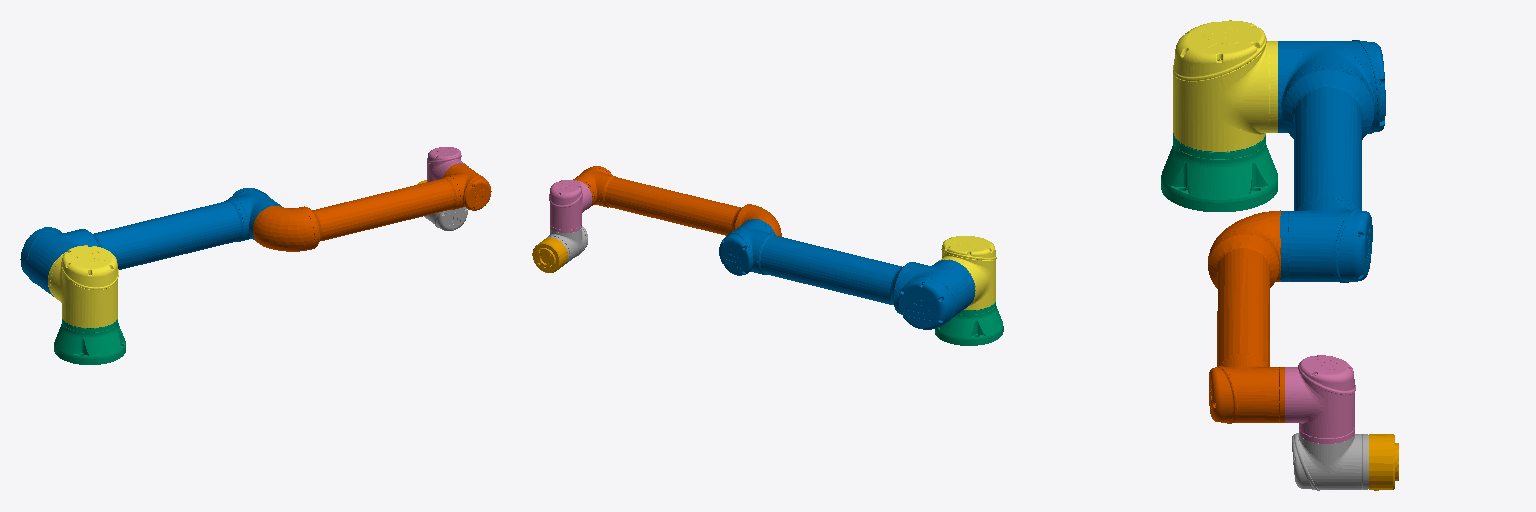
robot.urdf — ur:
<?xml version="1.0" ?>
<!-- =================================================================================== -->
<!-- |    This document was autogenerated by xacro from [local-path]/catkin_ws/src/Universal_Robots_ROS2_Description/urdf/ur.urdf.xacro | -->
<!-- |    EDITING THIS FILE BY HAND IS NOT RECOMMENDED                                 | -->
<!-- =================================================================================== -->
<robot name="ur">
  <!--
    Base UR robot series xacro macro.

    NOTE this is NOT a URDF. It cannot directly be loaded by consumers
    expecting a flattened '.urdf' file. See the top-level '.xacro' for that
    (but note that .xacro must still be processed by the xacro command).

    This file models the base kinematic chain of a UR robot, which then gets
    parameterised by various configuration files to convert it into a UR3(e),
    UR5(e), UR10(e) or UR16e.

    NOTE the default kinematic parameters (i.e., link lengths, frame locations,
    offsets, etc) do not correspond to any particular robot. They are defaults
    only. There WILL be non-zero offsets between the Forward Kinematics results
    in TF (i.e., robot_state_publisher) and the values reported by the Teach
    Pendant.

    For accurate (and robot-specific) transforms, the 'kinematics_parameters_file'
    parameter MUST point to a .yaml file containing the appropriate values for
    the targeted robot.

    If using the UniversalRobots/Universal_Robots_ROS_Driver, follow the steps
    described in the readme of that repository to extract the kinematic
    calibration from the controller and generate the required .yaml file.

    Main author of the migration to yaml configs [author].

    Contributors to previous versions (in no particular order)

     - [author]
     - [author]
     - [author]
     - [author]
     - [author]
     - [author]
     - [author]
     - [author]
     - [author]
     - [author]
     - [author]
     - [author]
     - [author]
     - [author]
     - [author]
     - [author]
     - [author]
     - [author]
     - [author]
  -->
  <!-- create link fixed to the "world" -->
  <link name="world"/>
  <!-- links -  main serial chain -->
  <!-- base_link serves as the root of the robot's kinematic tree. It follows REP-103
        conventions (i.e., X+ forward, Y+ left, Z+ up).
        Since some kinematic solvers forbid having inertia values attached to a root link, we've
        added the base_link_inertia link that carries the visual, collision and inertia
        information.
    -->
  <link name="base_link"/>
  <link name="base_link_inertia">
    <visual>
      <origin rpy="0.0 0.0 3.141592653589793" xyz="0.0 0.0 0.0"/>
      <geometry>
        <mesh filename="meshes/ur10e/visual/base.obj"/>
      </geometry>
    </visual>
    <collision>
      <origin rpy="0.0 0.0 3.141592653589793" xyz="0.0 0.0 0.0"/>
      <geometry>
        <mesh filename="meshes/ur10e/collision/base.stl"/>
      </geometry>
    </collision>
    <inertial>
      <mass value="4.0"/>
      <origin rpy="0 0 0" xyz="0 0 0"/>
      <inertia ixx="0.0061063308908" ixy="0.0" ixz="0.0" iyy="0.0061063308908" iyz="0.0" izz="0.01125"/>
    </inertial>
  </link>
  <link name="shoulder_link">
    <visual>
      <origin rpy="0.0 0.0 3.141592653589793" xyz="0.0 0.0 0.0"/>
      <geometry>
        <mesh filename="meshes/ur10e/visual/shoulder.obj"/>
      </geometry>
    </visual>
    <collision>
      <origin rpy="0.0 0.0 3.141592653589793" xyz="0.0 0.0 0.0"/>
      <geometry>
        <mesh filename="meshes/ur10e/collision/shoulder.stl"/>
      </geometry>
    </collision>
    <inertial>
      <mass value="7.369"/>
      <origin rpy="1.570796326794897 0 0" xyz="0.021 -0.027 0.0"/>
      <inertia ixx="0.03408" ixy="2e-05" ixz="-0.00425" iyy="0.03529" iyz="8e-05" izz="0.02156"/>
    </inertial>
  </link>
  <link name="upper_arm_link">
    <visual>
      <origin rpy="1.5707963267948966 0.0 -1.5707963267948966" xyz="0.0 0.0 0.1762"/>
      <geometry>
        <mesh filename="meshes/ur10e/visual/upperarm.obj"/>
      </geometry>
    </visual>
    <collision>
      <origin rpy="1.5707963267948966 0.0 -1.5707963267948966" xyz="0.0 0.0 0.1762"/>
      <geometry>
        <mesh filename="meshes/ur10e/collision/upperarm.stl"/>
      </geometry>
    </collision>
    <inertial>
      <mass value="13.051"/>
      <origin rpy="0 0 0" xyz="-0.2327 0.0 0.158"/>
      <inertia ixx="0.02814" ixy="5e-05" ixz="-0.01561" iyy="0.77068" iyz="2e-05" izz="0.76943"/>
    </inertial>
  </link>
  <link name="forearm_link">
    <visual>
      <origin rpy="1.5707963267948966 0.0 -1.5707963267948966" xyz="0.0 0.0 0.0393"/>
      <geometry>
        <mesh filename="meshes/ur10e/visual/forearm.obj"/>
      </geometry>
    </visual>
    <collision>
      <origin rpy="1.5707963267948966 0.0 -1.5707963267948966" xyz="0.0 0.0 0.0393"/>
      <geometry>
        <mesh filename="meshes/ur10e/collision/forearm.stl"/>
      </geometry>
    </collision>
    <inertial>
      <mass value="3.989"/>
      <origin rpy="0 0 0" xyz="-0.33155 0.0 0.068"/>
      <inertia ixx="0.01014" ixy="8e-05" ixz="0.00916" iyy="0.30928" iyz="0.0" izz="0.30646"/>
    </inertial>
  </link>
  <link name="wrist_1_link">
    <visual>
      <origin rpy="1.5707963267948966 0.0 0.0" xyz="0.0 0.0 -0.135"/>
      <geometry>
        <mesh filename="meshes/ur10e/visual/wrist1.obj"/>
      </geometry>
    </visual>
    <collision>
      <origin rpy="1.5707963267948966 0.0 0.0" xyz="0.0 0.0 -0.135"/>
      <geometry>
        <mesh filename="meshes/ur10e/collision/wrist1.stl"/>
      </geometry>
    </collision>
    <inertial>
      <mass value="2.1"/>
      <origin rpy="1.570796326794897 0 0" xyz="0.0 -0.018 0.007"/>
      <inertia ixx="0.00296" ixy="-1e-05" ixz="0.0" iyy="0.00222" iyz="-0.00024" izz="0.00258"/>
    </inertial>
  </link>
  <link name="wrist_2_link">
    <visual>
      <origin rpy="0.0 0.0 0.0" xyz="0.0 0.0 -0.12"/>
      <geometry>
        <mesh filename="meshes/ur10e/visual/wrist2.obj"/>
      </geometry>
    </visual>
    <collision>
      <origin rpy="0.0 0.0 0.0" xyz="0.0 0.0 -0.12"/>
      <geometry>
        <mesh filename="meshes/ur10e/collision/wrist2.stl"/>
      </geometry>
    </collision>
    <inertial>
      <mass value="1.98"/>
      <origin rpy="-1.570796326794897 0 0" xyz="0.0 0.018 -0.007"/>
      <inertia ixx="0.00296" ixy="-1e-05" ixz="0.0" iyy="0.00222" iyz="-0.00024" izz="0.00258"/>
    </inertial>
  </link>
  <link name="wrist_3_link">
    <visual>
      <origin rpy="1.5707963267948966 0.0 0.0" xyz="0.0 0.0 -0.1168"/>
      <geometry>
        <mesh filename="meshes/ur10e/visual/wrist3.obj"/>
      </geometry>
    </visual>
    <collision>
      <origin rpy="1.5707963267948966 0.0 0.0" xyz="0.0 0.0 -0.1168"/>
      <geometry>
        <mesh filename="meshes/ur10e/collision/wrist3.stl"/>
      </geometry>
    </collision>
    <inertial>
      <mass value="0.615"/>
      <origin rpy="0 0 0" xyz="0.0 0.0 -0.026"/>
      <inertia ixx="0.0004" ixy="0.0" ixz="0.0" iyy="0.00041" iyz="0.0" izz="0.00034"/>
    </inertial>
  </link>
  <!-- base_joint fixes base_link to the environment -->
  <joint name="base_joint" type="fixed">
    <origin rpy="0 0 0" xyz="0 0 0"/>
    <parent link="world"/>
    <child link="base_link"/>
  </joint>
  <!-- joints - main serial chain -->
  <joint name="base_link-base_link_inertia" type="fixed">
    <parent link="base_link"/>
    <child link="base_link_inertia"/>
    <!-- 'base_link' is REP-103 aligned (so X+ forward), while the internal
           frames of the robot/controller have X+ pointing backwards.
           Use the joint between 'base_link' and 'base_link_inertia' (a dummy
           link/frame) to introduce the necessary rotation over Z (of pi rad).
      -->
    <origin rpy="0 0 3.141592653589793" xyz="0 0 0"/>
  </joint>
  <joint name="shoulder_pan_joint" type="revolute">
    <parent link="base_link_inertia"/>
    <child link="shoulder_link"/>
    <origin rpy="0 0 0" xyz="0 0 0.1807"/>
    <axis xyz="0 0 1"/>
    <limit effort="330.0" lower="-6.283185307179586" upper="6.283185307179586" velocity="2.0943951023931953"/>
    <safety_controller k_position="20" k_velocity="0.0" soft_lower_limit="-6.133185307179586" soft_upper_limit="6.133185307179586"/>
    <dynamics damping="0" friction="0"/>
  </joint>
  <joint name="shoulder_lift_joint" type="revolute">
    <parent link="shoulder_link"/>
    <child link="upper_arm_link"/>
    <origin rpy="1.570796327 0 0" xyz="0 0 0"/>
    <axis xyz="0 0 1"/>
    <limit effort="330.0" lower="-6.283185307179586" upper="6.283185307179586" velocity="2.0943951023931953"/>
    <safety_controller k_position="20" k_velocity="0.0" soft_lower_limit="-6.133185307179586" soft_upper_limit="6.133185307179586"/>
    <dynamics damping="0" friction="0"/>
  </joint>
  <joint name="elbow_joint" type="revolute">
    <parent link="upper_arm_link"/>
    <child link="forearm_link"/>
    <origin rpy="0 0 0" xyz="-0.6127 0 0"/>
    <axis xyz="0 0 1"/>
    <limit effort="150.0" lower="-3.141592653589793" upper="3.141592653589793" velocity="3.141592653589793"/>
    <safety_controller k_position="20" k_velocity="0.0" soft_lower_limit="-2.991592653589793" soft_upper_limit="2.991592653589793"/>
    <dynamics damping="0" friction="0"/>
  </joint>
  <joint name="wrist_1_joint" type="revolute">
    <parent link="forearm_link"/>
    <child link="wrist_1_link"/>
    <origin rpy="0 0 0" xyz="-0.57155 0 0.17415"/>
    <axis xyz="0 0 1"/>
    <limit effort="54.0" lower="-6.283185307179586" upper="6.283185307179586" velocity="3.141592653589793"/>
    <safety_controller k_position="20" k_velocity="0.0" soft_lower_limit="-6.133185307179586" soft_upper_limit="6.133185307179586"/>
    <dynamics damping="0" friction="0"/>
  </joint>
  <joint name="wrist_2_joint" type="revolute">
    <parent link="wrist_1_link"/>
    <child link="wrist_2_link"/>
    <origin rpy="1.570796327 0 0" xyz="0 -0.11985 -2.458164590756244e-11"/>
    <axis xyz="0 0 1"/>
    <limit effort="54.0" lower="-6.283185307179586" upper="6.283185307179586" velocity="3.141592653589793"/>
    <safety_controller k_position="20" k_velocity="0.0" soft_lower_limit="-6.133185307179586" soft_upper_limit="6.133185307179586"/>
    <dynamics damping="0" friction="0"/>
  </joint>
  <joint name="wrist_3_joint" type="revolute">
    <parent link="wrist_2_link"/>
    <child link="wrist_3_link"/>
    <origin rpy="1.570796326589793 3.141592653589793 3.141592653589793" xyz="0 0.11655 -2.390480459346185e-11"/>
    <axis xyz="0 0 1"/>
    <limit effort="54.0" lower="-6.283185307179586" upper="6.283185307179586" velocity="3.141592653589793"/>
    <safety_controller k_position="20" k_velocity="0.0" soft_lower_limit="-6.133185307179586" soft_upper_limit="6.133185307179586"/>
    <dynamics damping="0" friction="0"/>
  </joint>
  <link name="ft_frame"/>
  <joint name="wrist_3_link-ft_frame" type="fixed">
    <parent link="wrist_3_link"/>
    <child link="ft_frame"/>
    <origin rpy="3.141592653589793 0 0" xyz="0 0 0"/>
  </joint>
  <!-- ROS-Industrial 'base' frame - base_link to UR 'Base' Coordinates transform -->
  <link name="base"/>
  <joint name="base_link-base_fixed_joint" type="fixed">
    <!-- Note the rotation over Z of pi radians - as base_link is REP-103
           aligned (i.e., has X+ forward, Y+ left and Z+ up), this is needed
           to correctly align 'base' with the 'Base' coordinate system of
           the UR controller.
      -->
    <origin rpy="0 0 3.141592653589793" xyz="0 0 0"/>
    <parent link="base_link"/>
    <child link="base"/>
  </joint>
  <!-- ROS-Industrial 'flange' frame - attachment point for EEF models -->
  <link name="flange"/>
  <joint name="wrist_3-flange" type="fixed">
    <parent link="wrist_3_link"/>
    <child link="flange"/>
    <origin rpy="0 -1.5707963267948966 -1.5707963267948966" xyz="0 0 0"/>
  </joint>
  <!-- ROS-Industrial 'tool0' frame - all-zeros tool frame -->
  <link name="tool0"/>
  <joint name="flange-tool0" type="fixed">
    <!-- default toolframe - X+ left, Y+ up, Z+ front -->
    <origin rpy="1.5707963267948966 0 1.5707963267948966" xyz="0 0 0"/>
    <parent link="flange"/>
    <child link="tool0"/>
  </joint>
</robot>

--- Render facts (derived) ---
Views: 3 orthographic renders of the robot side by side, from view 1: azimuth 30°, elevation 25°; view 2: azimuth 150°, elevation 25°; view 3: azimuth 270°, elevation 25°.
Model ur with 13 links and 12 joints (6 revolute, 6 fixed), rooted at world, posed all joints at 0.
Links seen in each view (by area): view 1: upper_arm_link, forearm_link, shoulder_link, base_link_inertia, wrist_1_link, wrist_2_link; view 2: upper_arm_link, forearm_link, shoulder_link, base_link_inertia, wrist_1_link, wrist_3_link, wrist_2_link; view 3: upper_arm_link, forearm_link, shoulder_link, base_link_inertia, wrist_1_link, wrist_2_link, wrist_3_link.
Link boxes in pixels (bbox=[...]): upper_arm_link: bbox=[20, 188, 281, 296]; forearm_link: bbox=[253, 164, 491, 251]; shoulder_link: bbox=[48, 245, 118, 327]; base_link_inertia: bbox=[54, 319, 125, 364]; wrist_1_link: bbox=[427, 147, 468, 181]; wrist_2_link: bbox=[424, 207, 467, 230]; upper_arm_link: bbox=[719, 219, 975, 329]; forearm_link: bbox=[573, 166, 781, 236]; shoulder_link: bbox=[936, 236, 996, 309]; base_link_inertia: bbox=[935, 302, 1003, 345]; wrist_1_link: bbox=[549, 180, 591, 232]; wrist_3_link: bbox=[532, 238, 567, 272]; wrist_2_link: bbox=[547, 226, 587, 263]; upper_arm_link: bbox=[1278, 40, 1385, 282]; forearm_link: bbox=[1208, 210, 1284, 423]; shoulder_link: bbox=[1173, 20, 1277, 151]; base_link_inertia: bbox=[1161, 133, 1277, 211]; wrist_1_link: bbox=[1285, 355, 1355, 443]; wrist_2_link: bbox=[1292, 433, 1368, 490]; wrist_3_link: bbox=[1369, 434, 1398, 490].
Size in the robot's own frame: 1.33 by 0.3857 by 0.2746 metres.
7 mesh visuals loaded from 7 distinct referenced files (7 OBJ).